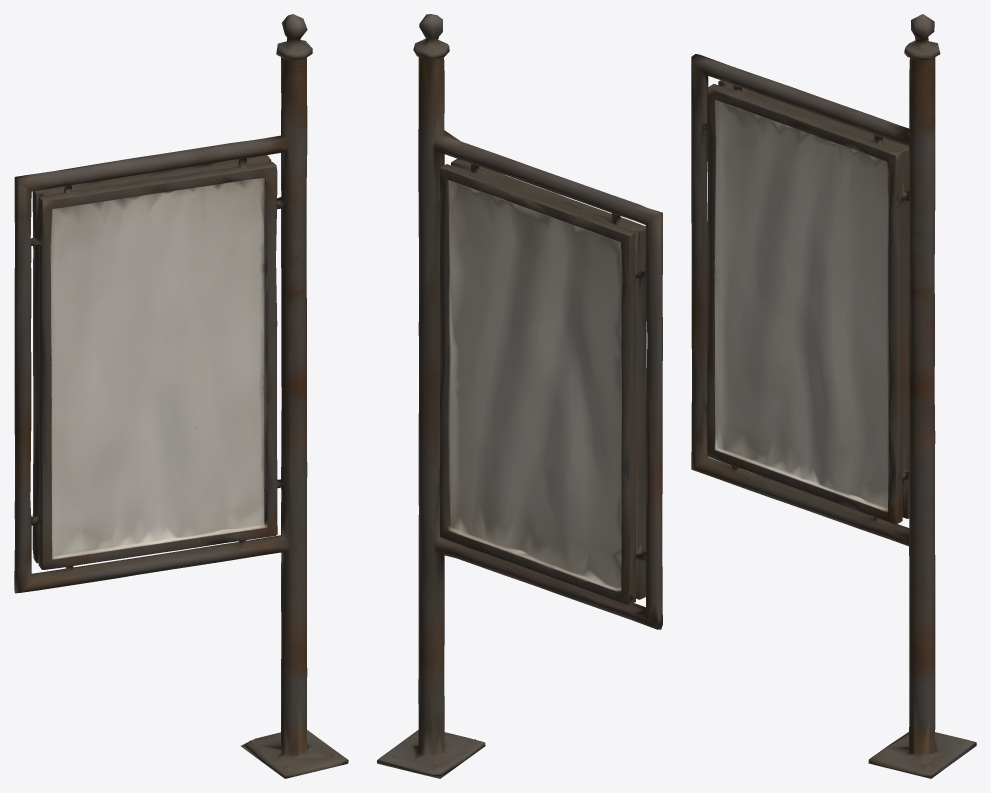
File: banner1.glb
3 views of the same model, side by side, from view 1: azimuth 30°, elevation 25°; view 2: azimuth 150°, elevation 25°; view 3: azimuth 330°, elevation 25° (orthographic).
Visible parts, largest first — view 1: tripo_node_ec75cb66-651e-4c04-b36c-78d4a2759493; view 2: tripo_node_ec75cb66-651e-4c04-b36c-78d4a2759493; view 3: tripo_node_ec75cb66-651e-4c04-b36c-78d4a2759493.
Part boxes in pixels (x1,y1,x2,y2): tripo_node_ec75cb66-651e-4c04-b36c-78d4a2759493: (14, 14, 348, 778); tripo_node_ec75cb66-651e-4c04-b36c-78d4a2759493: (377, 14, 662, 778); tripo_node_ec75cb66-651e-4c04-b36c-78d4a2759493: (691, 14, 976, 778).
Size of the model in its own units: 0.4044 by 1 by 0.1341.
Materials: 1 (1 with a texture image).
